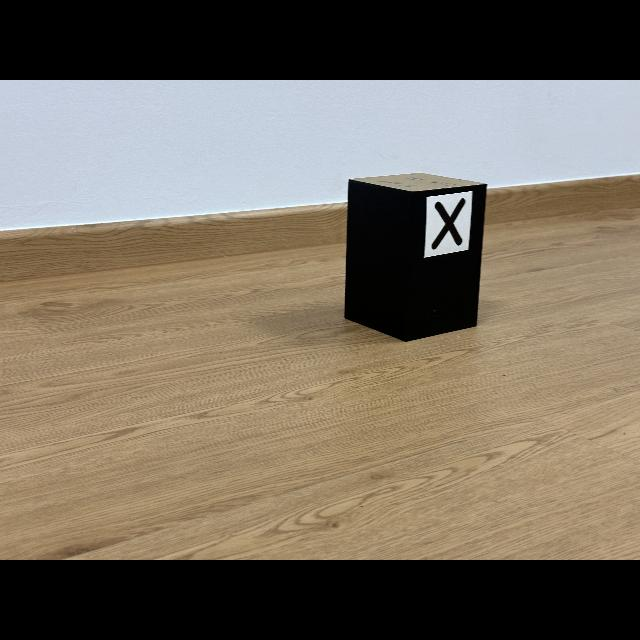X: (431, 198, 465, 250)
